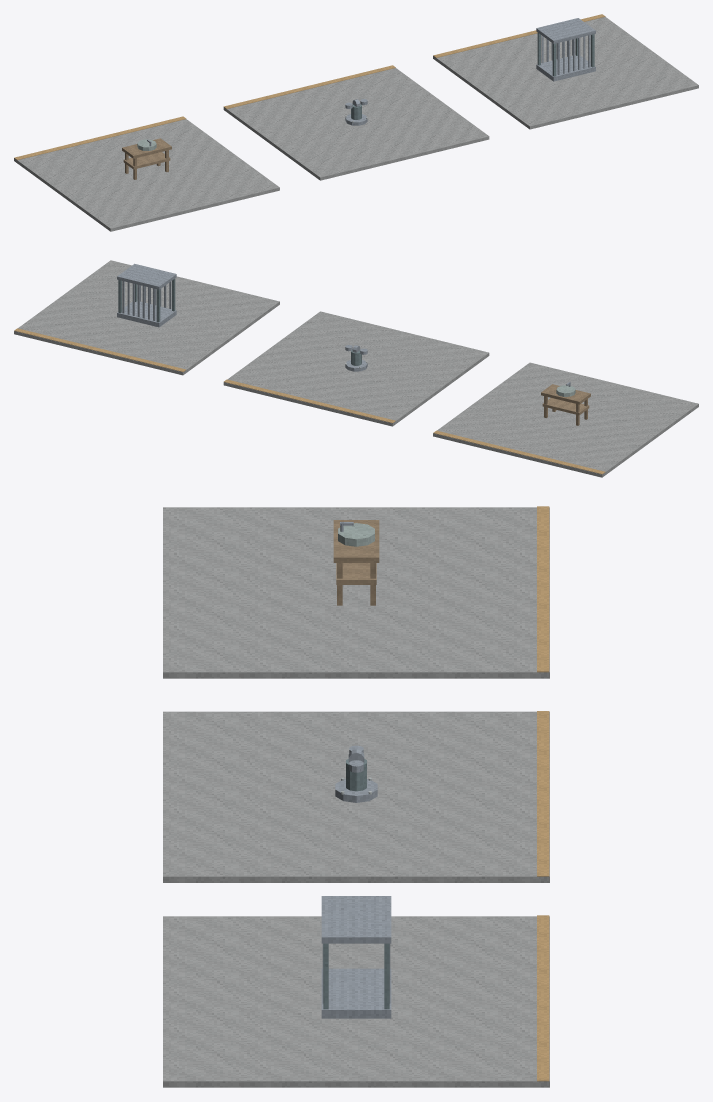
File: level_blockout_kit_refined_p03.glb
3 renders of one model, top to bottom at view 1: azimuth 30°, elevation 25°; view 2: azimuth 150°, elevation 25°; view 3: azimuth 270°, elevation 25°, orthographic. The views are drawn at different scales.
Visible parts, largest first — view 1: level_blockout_kit_refined_p03; view 2: level_blockout_kit_refined_p03; view 3: level_blockout_kit_refined_p03.
Boxes of the visible parts, box(x1,y1,x2,y2) form: level_blockout_kit_refined_p03: box(14, 14, 698, 231); level_blockout_kit_refined_p03: box(14, 260, 698, 477); level_blockout_kit_refined_p03: box(163, 506, 549, 1087).
Size of the model in its own units: 19.65 by 1.41 by 5.6.
Materials: 7 (7 with a texture image).
